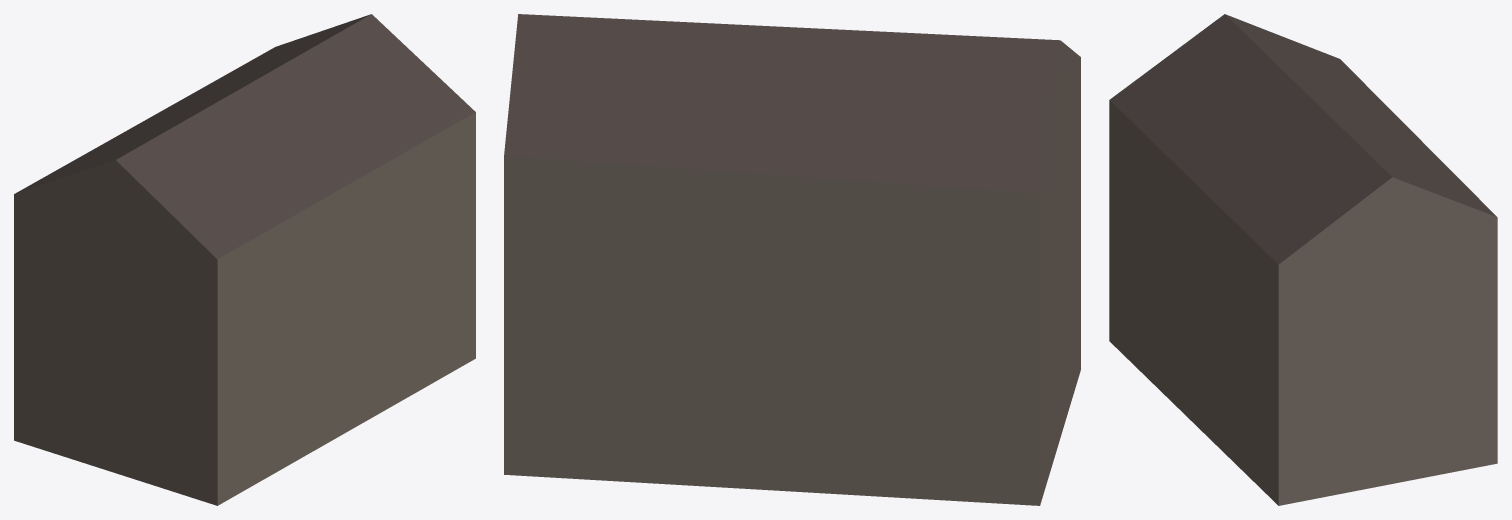
The picture shows the model from 3 angles, left to right: view 1: azimuth 30°, elevation 25°; view 2: azimuth 150°, elevation 25°; view 3: azimuth 270°, elevation 25°; orthographic projection. The views are drawn at different scales.
Parts seen in each view (by area): view 1: HP-w776801024; view 2: HP-w776801024; view 3: HP-w776801024.
Boxes of the visible parts, x1,y1,x2,y2 form: HP-w776801024: (14, 14, 475, 505); HP-w776801024: (504, 14, 1080, 505); HP-w776801024: (1109, 14, 1497, 505).
Size of the model in its own units: 10.97 by 7.63 by 8.75.
